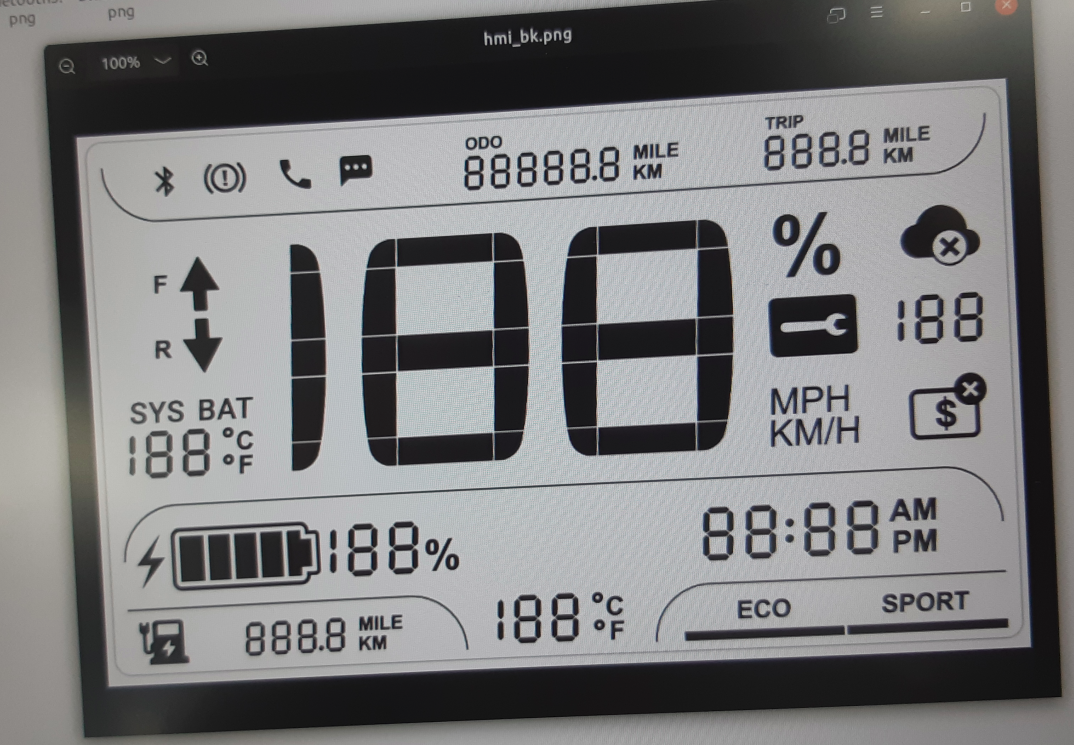bluetooth_on: (151, 163, 179, 200)
braking_on: (200, 158, 249, 198)
calling_on: (274, 154, 316, 194)
connection_lost: (896, 200, 981, 271)
error_code: (764, 291, 862, 359)
low_battery: (136, 614, 198, 667)
sms_on: (336, 153, 375, 189)
vin_id: (905, 369, 992, 443)
